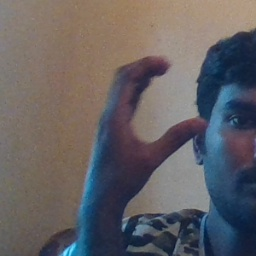C: (89, 47, 213, 165)
